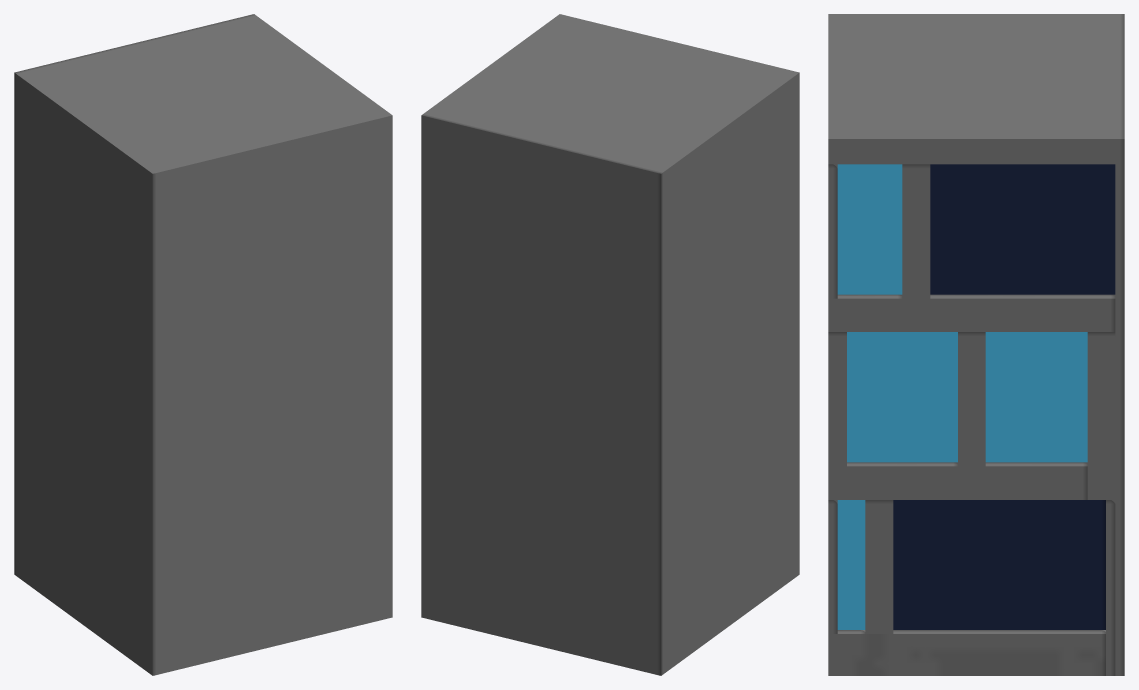
3 views of the same model, side by side, from view 1: azimuth 30°, elevation 25°; view 2: azimuth 150°, elevation 25°; view 3: azimuth 270°, elevation 25° (orthographic). The views are drawn at different scales.
Parts seen in each view (by area): view 1: Content; view 2: Content; view 3: Content.
Part boxes in pixels (bbox=[...]): Content: bbox=[14, 14, 392, 675]; Content: bbox=[421, 14, 799, 675]; Content: bbox=[828, 14, 1124, 675].
Bounding box in the file's own units: 32 × 64 × 32.
1 material, 1 textured.
